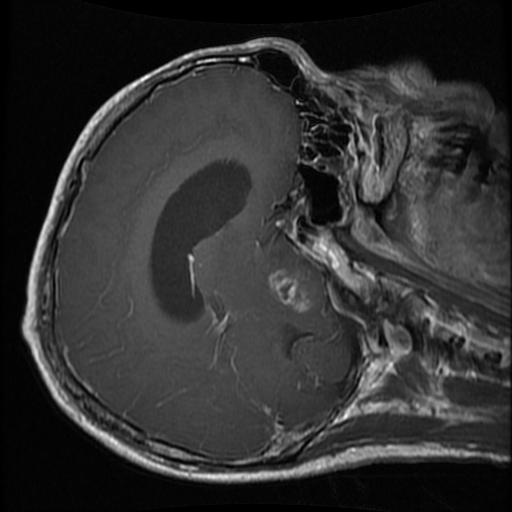glioma: (271, 268, 314, 312)
